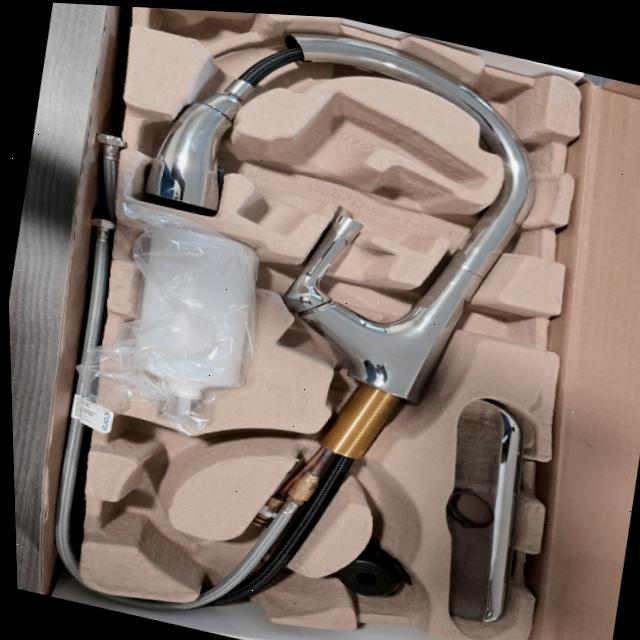1: (142, 30, 537, 606)
2m: (238, 92, 485, 232)
3: (128, 222, 259, 419)
4: (449, 397, 518, 622)
5: (336, 550, 416, 598)
6m: (96, 485, 201, 566)
7m: (99, 416, 243, 490)
